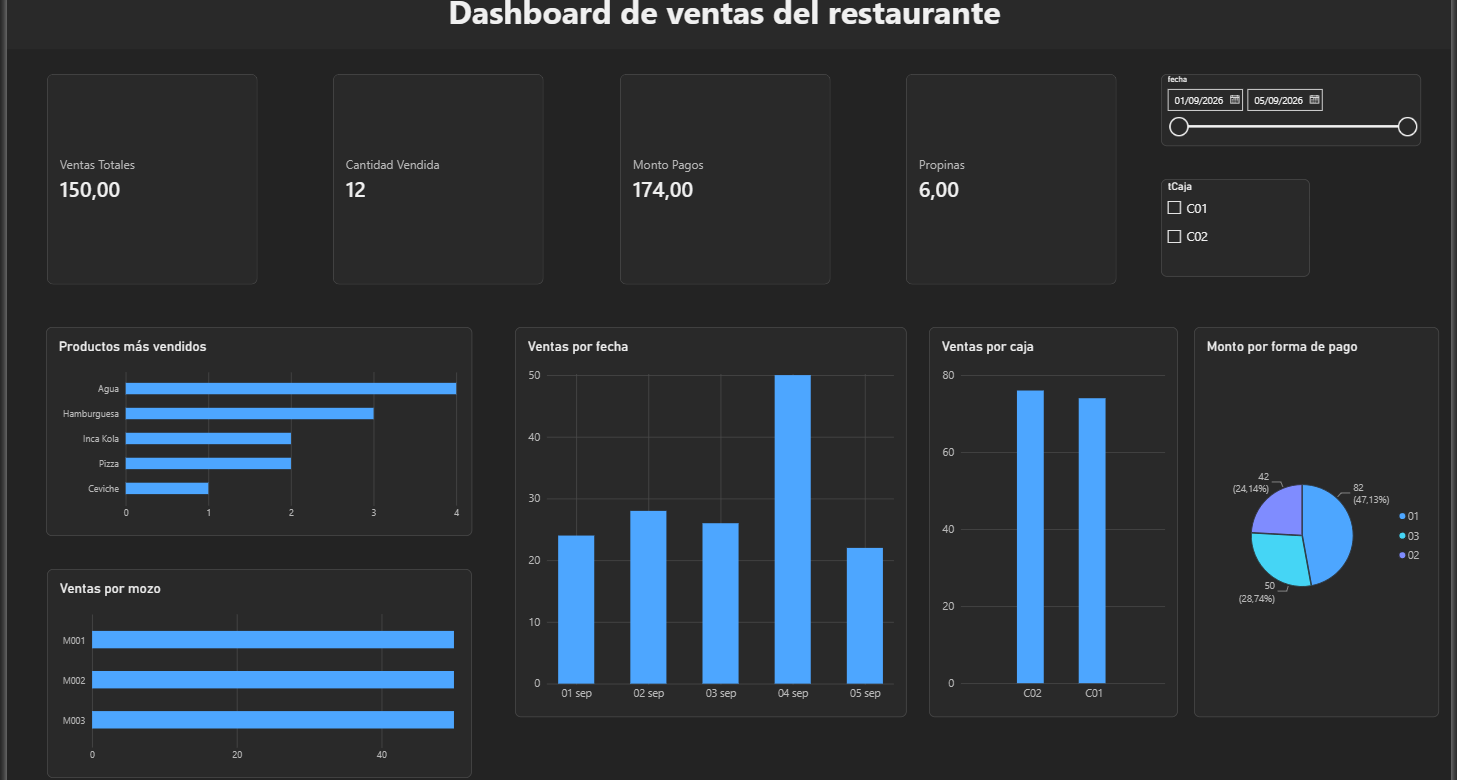

This screenshot's page, from the dashboard's own definition file:
{"tool":"powerbi","page":{"name":"Página 1","canvas":[1920,1080],"ordinal":0},"visuals":[{"type":"cardVisual","fields":{"Data":["DW_FACT_VENTAS.Ventas Totales"]},"box":[53.4,113.1,280,280],"z":0},{"type":"cardVisual","fields":{"Data":["DW_FACT_VENTAS.Cantidad Vendida"]},"box":[434.1,113.1,280.1,280.1],"z":1},{"type":"cardVisual","fields":{"Data":["DW_FACT_PAGOS.Propinas"]},"box":[1195.7,113.1,280.1,280.1],"z":2},{"type":"cardVisual","fields":{"Data":["DW_FACT_PAGOS.Monto Pagos"]},"box":[814.9,113.1,280.1,280.1],"z":3},{"type":"clusteredBarChart","title":"Productos más vendidos","fields":{"Category":["DW_DIM_PRODUCTO.tResumido"],"Y":["DW_FACT_VENTAS.Cantidad Vendida"]},"box":[51.9,449.6,566.6,278],"z":4},{"type":"clusteredColumnChart","title":"Ventas por fecha","fields":{"Category":["DW_DIM_FECHA.fecha"],"Y":["DW_FACT_VENTAS.Ventas Totales"]},"box":[675.5,448.9,520.7,519.4],"z":5},{"type":"clusteredBarChart","title":"Ventas por mozo","fields":{"Category":["DW_DIM_MOZO.tMozo"],"Y":["DW_FACT_VENTAS.Ventas Totales"]},"box":[53.2,771.4,565.3,278],"z":6},{"type":"clusteredColumnChart","title":"Ventas por caja","fields":{"Category":["DW_DIM_CAJA.tCaja"],"Y":["DW_FACT_VENTAS.Ventas Totales"]},"box":[1226.6,448.9,331.2,518.7],"z":7},{"type":"pieChart","title":"Monto por forma de pago","fields":{"Category":["DW_DIM_FORMA_PAGO.tTipoPago"],"Y":["DW_FACT_PAGOS.Monto Pagos"]},"box":[1578.8,448.9,325.9,518.7],"z":8},{"type":"slicer","fields":{"Values":["DW_DIM_FECHA.fecha"]},"box":[1534.9,113.1,345.7,95.8],"z":9},{"type":"slicer","fields":{"Values":["DW_DIM_CAJA.tCaja"]},"box":[1534.9,252.7,198,130.4],"z":10},{"type":"textbox","box":[0,0,1920,80.1],"z":11}]}

Visuals, with their boxes on the page's 1920x1080 design canvas (x1, y1, x2, y2). These are canvas units, not pixel positions in the 1457x780 screenshot, which may show the page scaled, cropped or inside an application window:
cardVisual - DW_FACT_VENTAS.Ventas Totales: x1=53, y1=113, x2=333, y2=393
cardVisual - DW_FACT_VENTAS.Cantidad Vendida: x1=434, y1=113, x2=714, y2=393
cardVisual - DW_FACT_PAGOS.Propinas: x1=1196, y1=113, x2=1476, y2=393
cardVisual - DW_FACT_PAGOS.Monto Pagos: x1=815, y1=113, x2=1095, y2=393
"Productos más vendidos" clusteredBarChart: x1=52, y1=450, x2=618, y2=728
"Ventas por fecha" clusteredColumnChart: x1=676, y1=449, x2=1196, y2=968
"Ventas por mozo" clusteredBarChart: x1=53, y1=771, x2=618, y2=1049
"Ventas por caja" clusteredColumnChart: x1=1227, y1=449, x2=1558, y2=968
"Monto por forma de pago" pieChart: x1=1579, y1=449, x2=1905, y2=968
slicer - DW_DIM_FECHA.fecha: x1=1535, y1=113, x2=1881, y2=209
slicer - DW_DIM_CAJA.tCaja: x1=1535, y1=253, x2=1733, y2=383
textbox: x1=0, y1=0, x2=1920, y2=80
